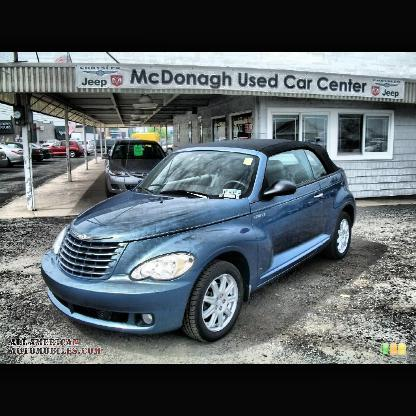Chrysler PT Cruiser Convertible 2008: (40, 138, 358, 343)
